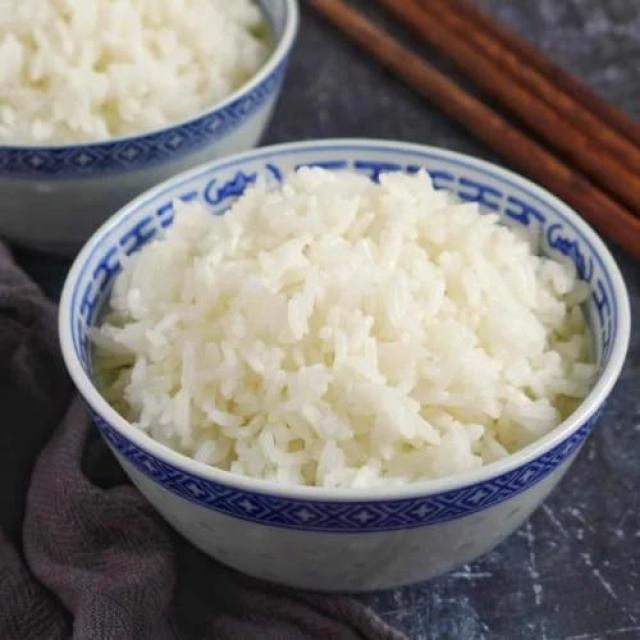rice: (102, 174, 591, 487)
